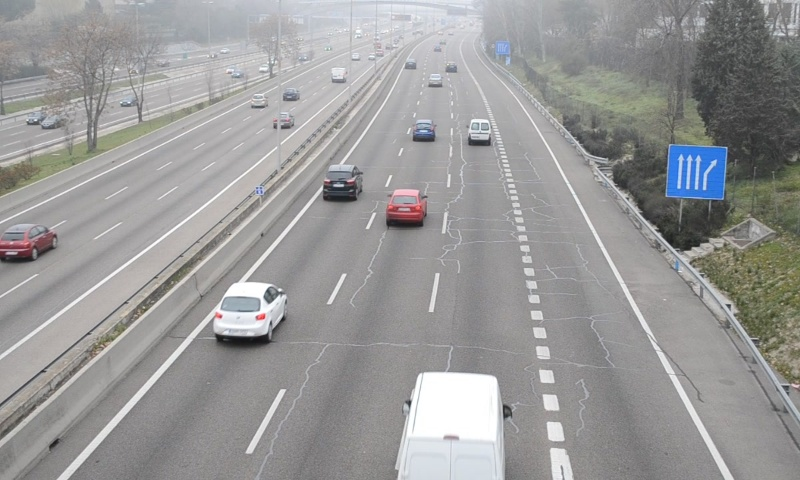car: (212, 283, 286, 336), (387, 188, 426, 224), (322, 164, 360, 199), (412, 119, 436, 142), (427, 73, 442, 88)
van: (396, 372, 506, 480), (468, 118, 491, 144)
